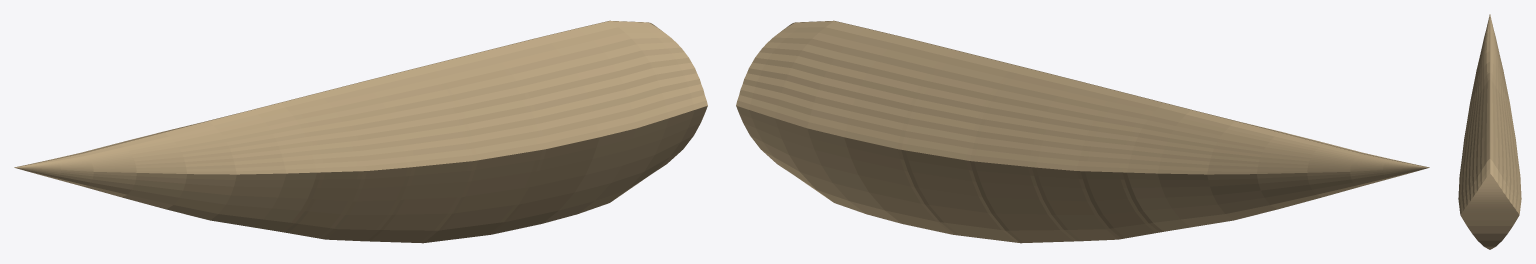
The picture shows the model from 3 angles, left to right: view 1: azimuth 30°, elevation 25°; view 2: azimuth 150°, elevation 25°; view 3: azimuth 270°, elevation 25°; orthographic projection. The views are drawn at different scales.
Visible parts, largest first — view 1: right-valve-envelope, left-valve-envelope; view 2: left-valve-envelope, right-valve-envelope; view 3: left-valve-envelope, right-valve-envelope.
Boxes of the visible parts, x1,y1,x2,y2 form: right-valve-envelope: (15,21,707,243); left-valve-envelope: (14,20,656,167); left-valve-envelope: (736,21,1428,243); right-valve-envelope: (787,20,1429,167); left-valve-envelope: (1490,14,1521,249); right-valve-envelope: (1458,14,1489,249).
Bounding box in the file's own units: 0.119 × 0.032 × 0.0196.
